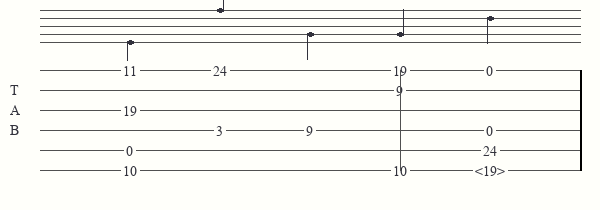0: (126, 143, 137, 157), (486, 123, 497, 137), (486, 63, 497, 77)
10: (123, 163, 141, 177), (393, 163, 411, 177)
11: (123, 63, 141, 77)
19: (123, 103, 141, 117), (393, 63, 411, 77)
24: (213, 63, 231, 77), (483, 143, 501, 157)
3: (216, 123, 227, 137)
9: (306, 123, 317, 137), (396, 83, 407, 97)
harmonic: (475, 163, 509, 177)
